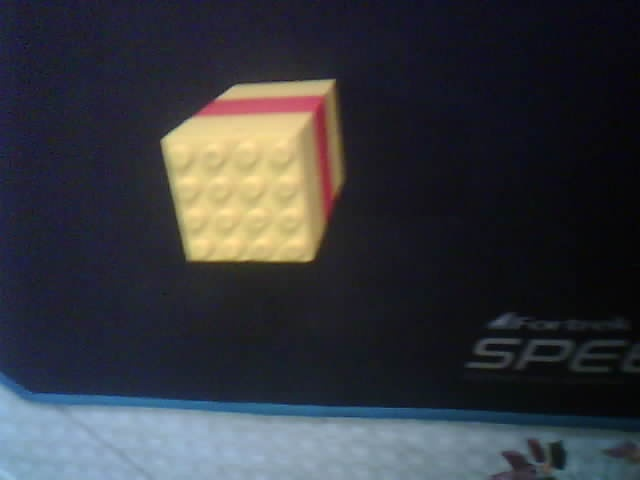lego: (158, 78, 348, 265)
